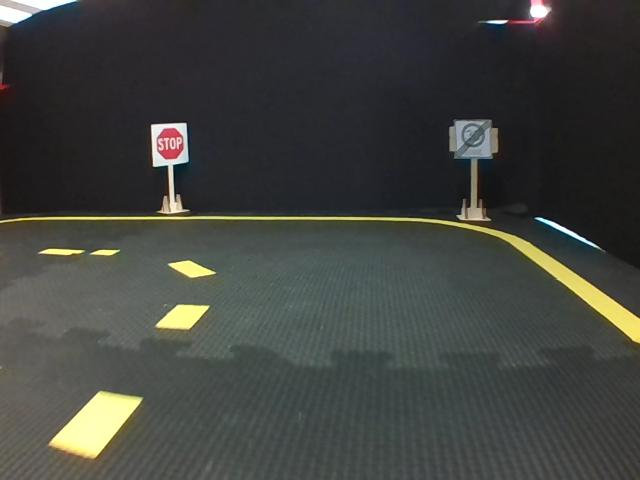no30: (456, 119, 492, 159)
stop: (152, 125, 188, 162)
